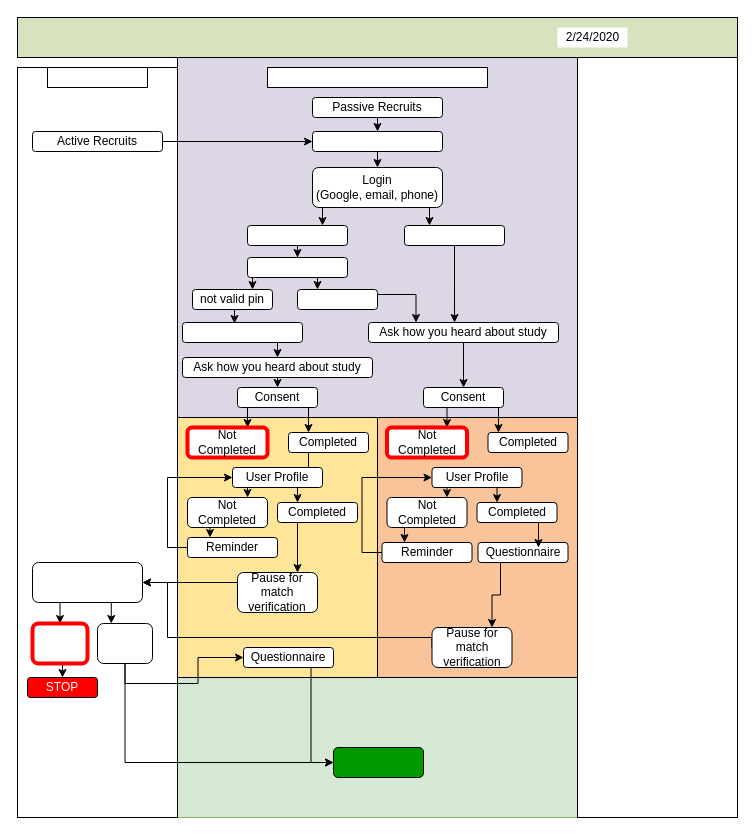
The diagram is 755 pixels wide and 835 high, and some of its shapes have lost their labels. The box of each missing label's shape, as (x1, y1, x2, y2) in pixels:
Ask site affiliation: (182, 322, 302, 342)
Eligible: (96, 622, 152, 664)
EMR and Biospecimen: (332, 746, 424, 778)
Enter Pin: (246, 256, 348, 278)
IHCS: (46, 66, 148, 88)
Match verification and Eligibility check: (32, 562, 142, 602)
NCI: (266, 66, 488, 88)
NCI URL: (312, 130, 442, 152)
No valid token: (246, 224, 348, 246)
Not Eligible: (30, 621, 89, 665)
Recruitment Workflow: (16, 16, 738, 58)
valid pin: (296, 288, 378, 310)
Valid Token: (404, 224, 504, 246)
